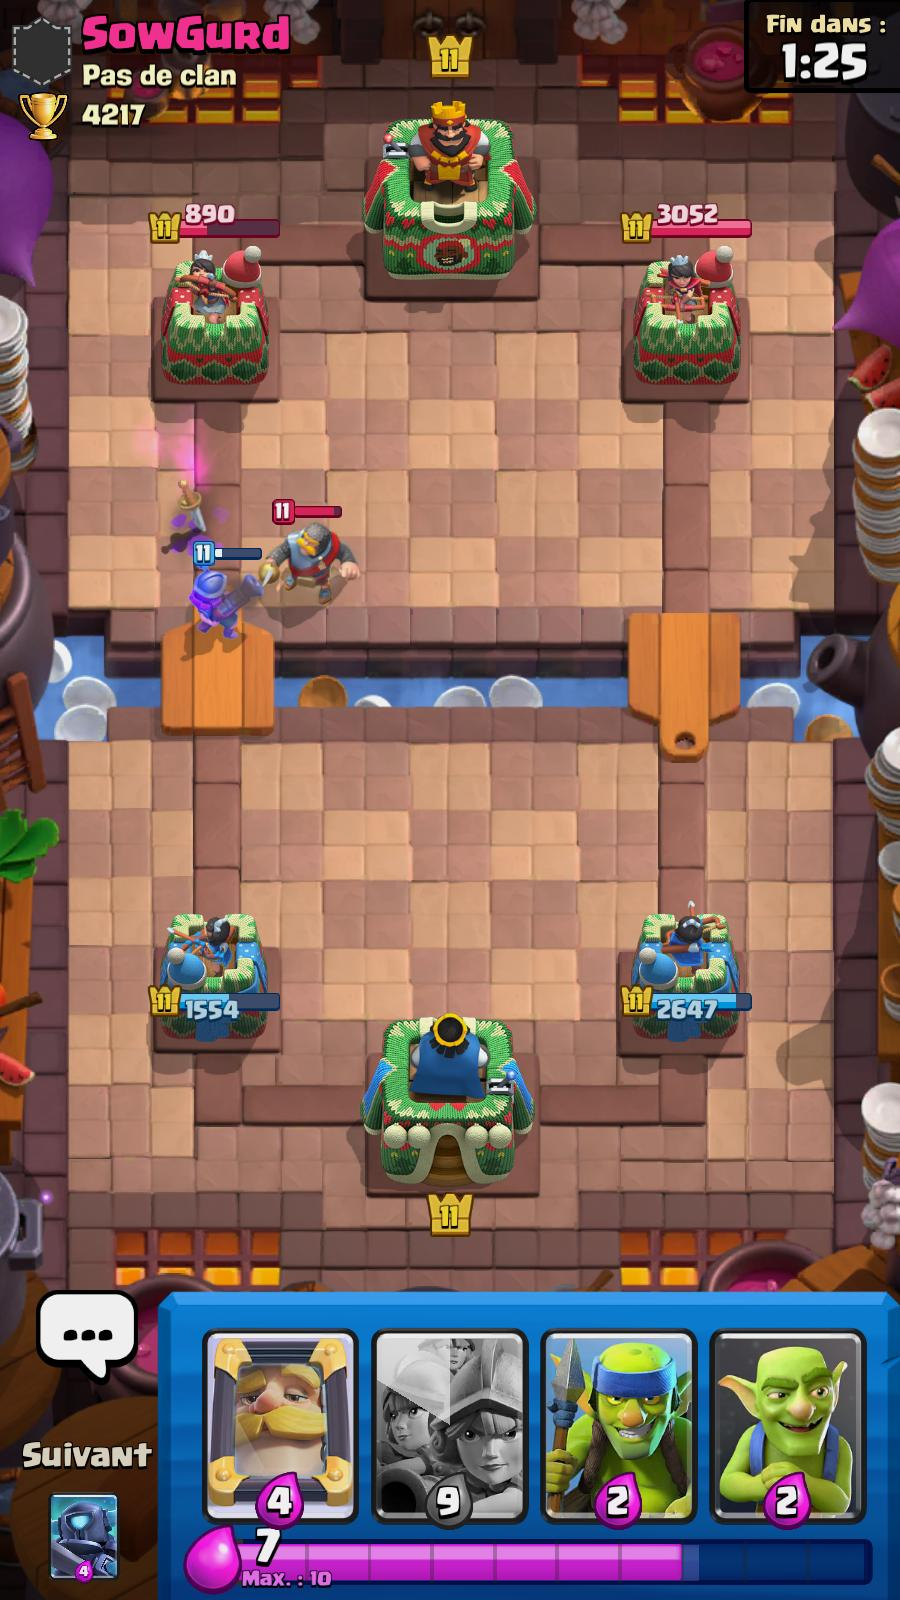chevalier: (270, 498, 360, 615)
mousquetaire: (191, 541, 263, 641)
